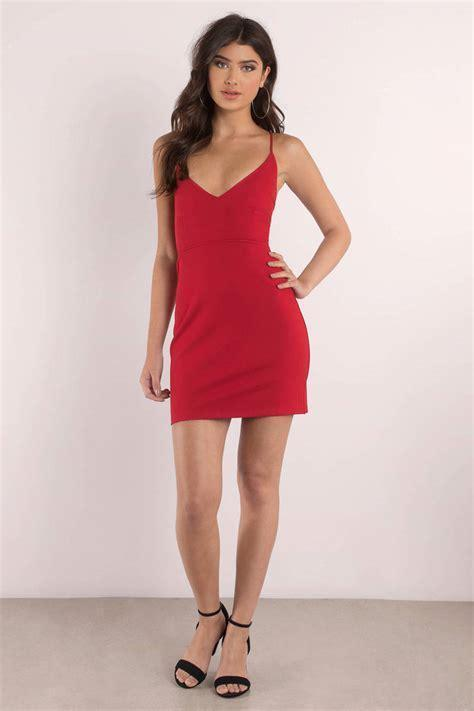dress: (168, 126, 312, 423)
